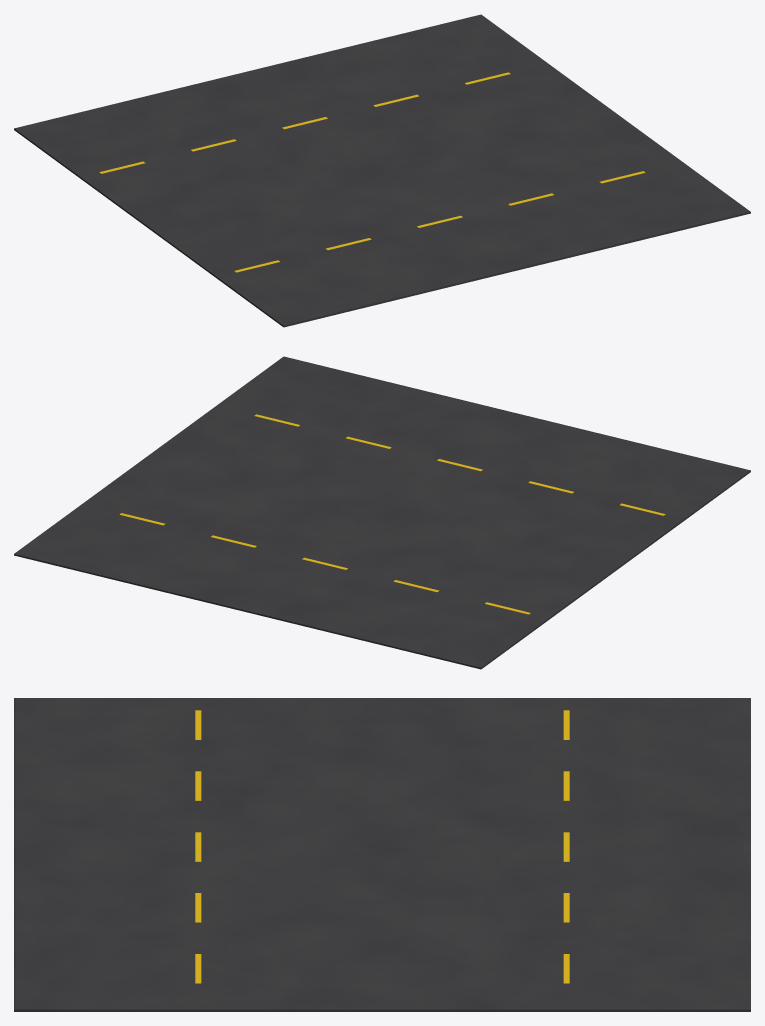
File: pv_dvur_asfalt.glb
3 views of the same model, one above another, from view 1: azimuth 30°, elevation 25°; view 2: azimuth 150°, elevation 25°; view 3: azimuth 270°, elevation 25° (orthographic). The views are drawn at different scales.
Visible parts, largest first — view 1: dum; view 2: dum; view 3: dum.
Boxes of the visible parts, <box> form: dum: <box>14,14,750,327</box>; dum: <box>14,356,750,669</box>; dum: <box>14,698,750,1011</box>.
Bounding box in the file's own units: 14.8 × 0.056 × 14.8.
Materials: 1 (1 with a texture image).
